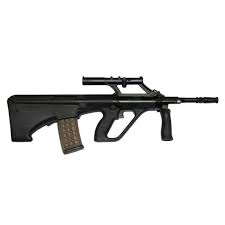rifle: (8, 76, 218, 154)
